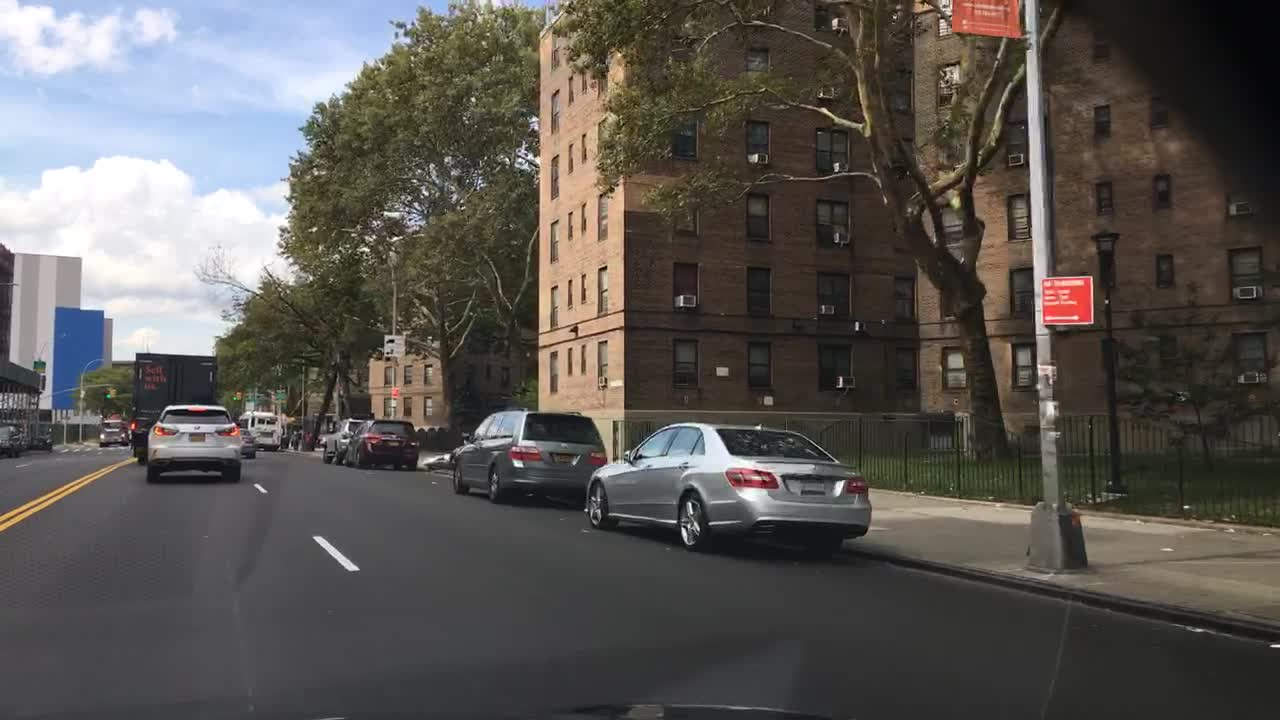car: (581, 419, 874, 548), (450, 411, 611, 504), (143, 399, 245, 483), (341, 418, 422, 471), (320, 417, 368, 462), (236, 409, 283, 448), (97, 417, 128, 447), (0, 423, 25, 459), (236, 426, 257, 459), (25, 430, 52, 448)
traffic light: (101, 385, 113, 397), (230, 390, 242, 400)
traffic sign: (950, 0, 1023, 43), (1040, 274, 1094, 326), (383, 333, 405, 357), (274, 387, 287, 402), (390, 385, 401, 397)
truck: (128, 351, 218, 463)
